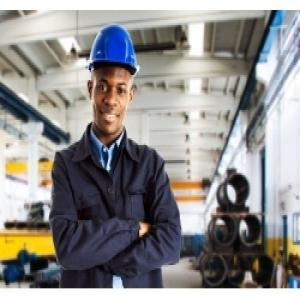blue: (87, 24, 139, 136)
